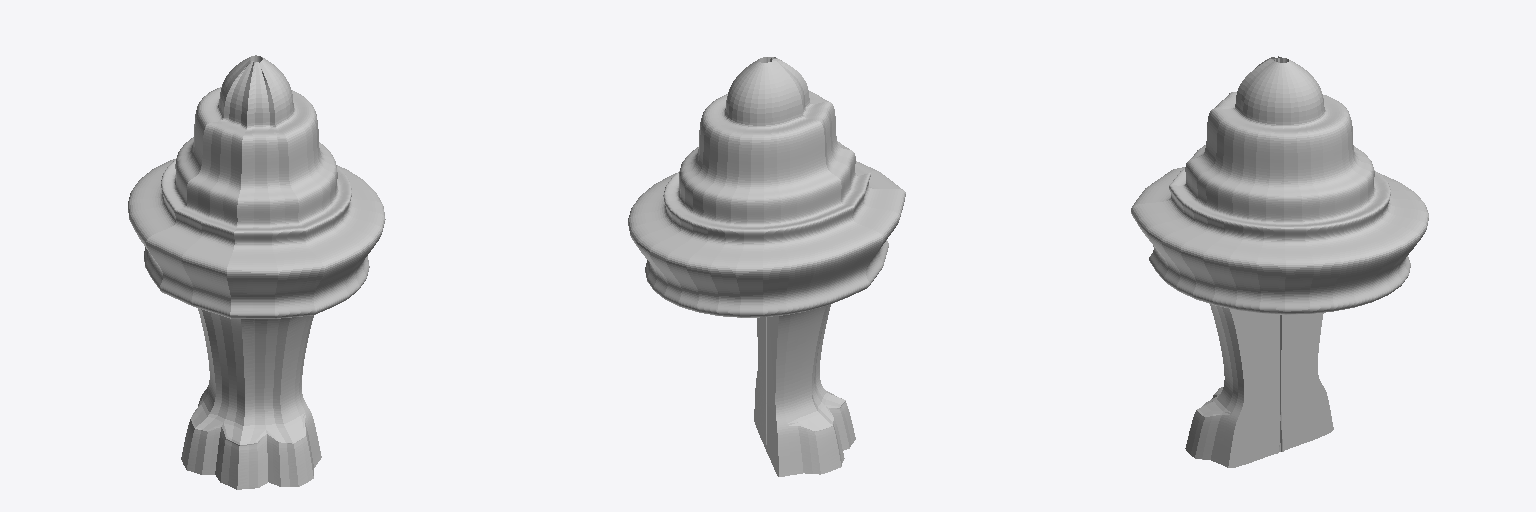
The model's file is tube_foot3.obj.
3 views of the same model, side by side, from view 1: azimuth 30°, elevation 25°; view 2: azimuth 150°, elevation 25°; view 3: azimuth 270°, elevation 25° (orthographic).
Visible parts, largest first — view 1: Line004; view 2: Line004; view 3: Line004.
Part boxes in pixels (left/top/right/bottom): Line004: left=128, top=55, right=385, bottom=489; Line004: left=628, top=57, right=905, bottom=476; Line004: left=1131, top=56, right=1428, bottom=467.
Size of the model in its own units: 43.54 by 72.47 by 49.96.